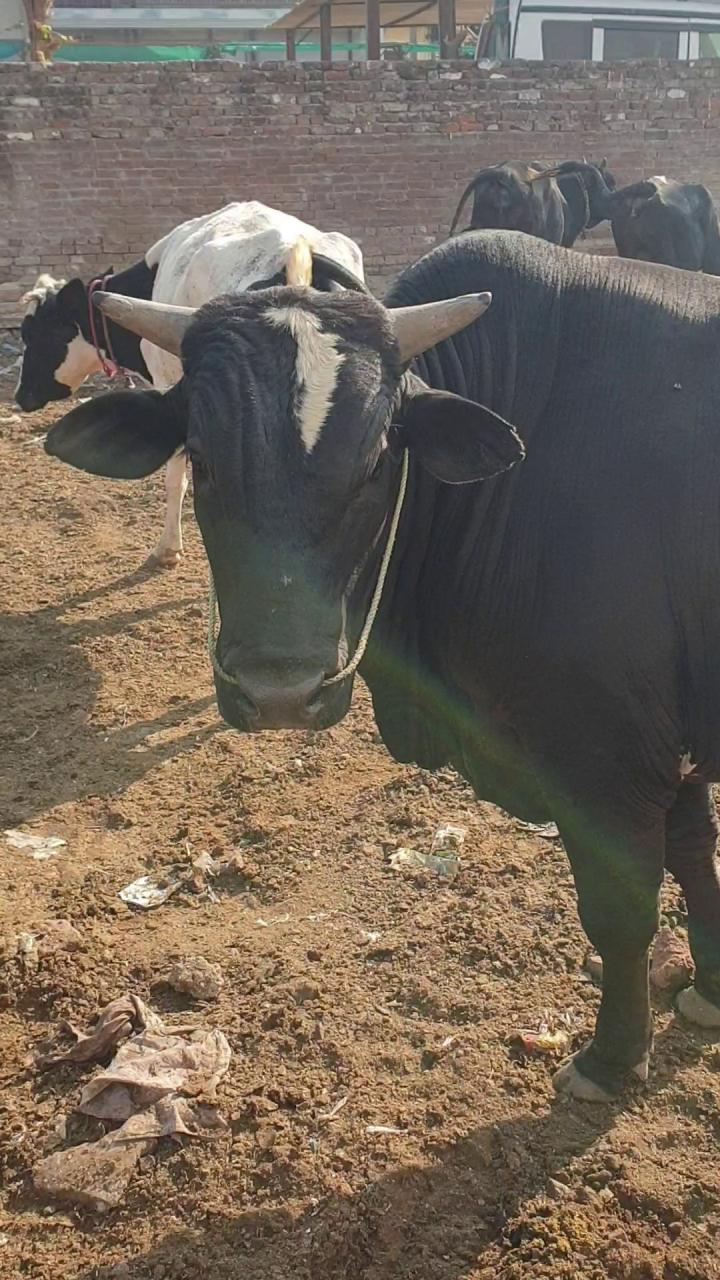cows: (180, 268, 408, 758)
